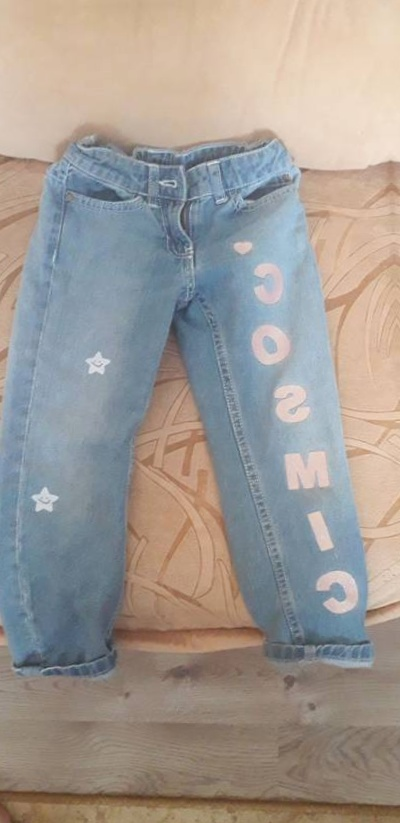Pants: (0, 116, 369, 711)
